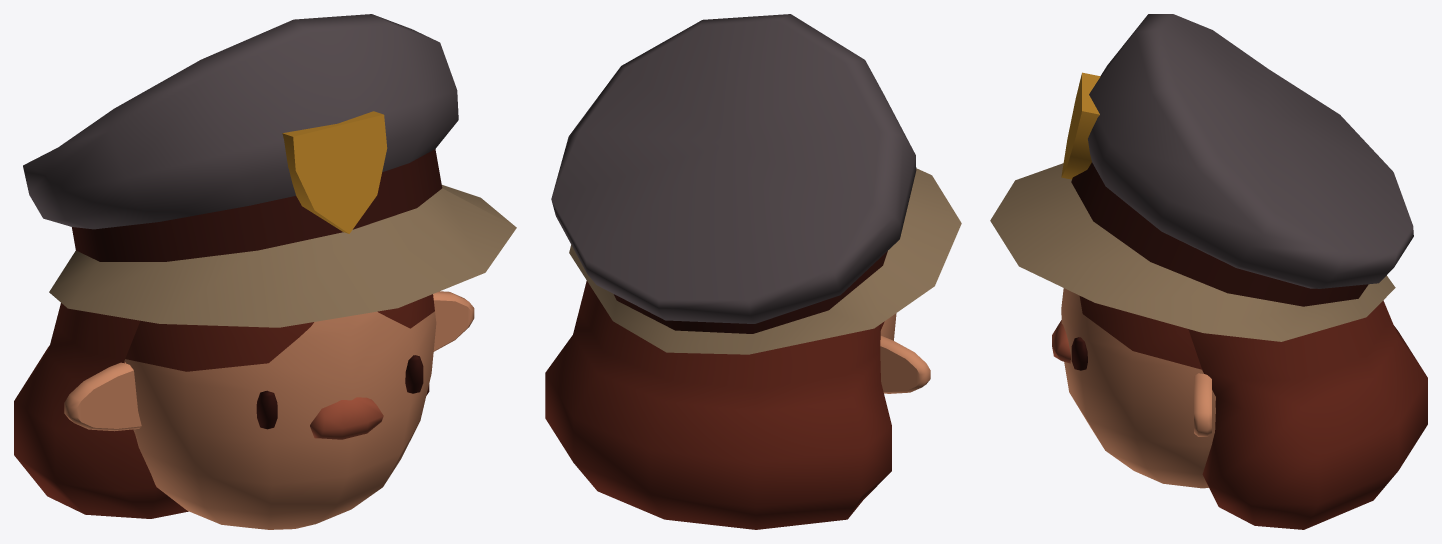
The model's file is NPC_PoliceMan2_Circle_Head_V2.fbx.
The picture shows the model from 3 angles, left to right: view 1: azimuth 30°, elevation 25°; view 2: azimuth 150°, elevation 25°; view 3: azimuth 270°, elevation 25°; orthographic projection. The views are drawn at different scales.
Visible parts, largest first — view 1: PoliceOfficer2_Circle_Head_Nose; view 2: PoliceOfficer2_Circle_Head_Nose; view 3: PoliceOfficer2_Circle_Head_Nose.
Boxes of the visible parts, left/top/right/bottom form: PoliceOfficer2_Circle_Head_Nose: left=14, top=14, right=516, bottom=529; PoliceOfficer2_Circle_Head_Nose: left=545, top=14, right=961, bottom=529; PoliceOfficer2_Circle_Head_Nose: left=990, top=14, right=1427, bottom=529.
Bounding box in the file's own units: 3.19 × 3.73 × 3.34.
